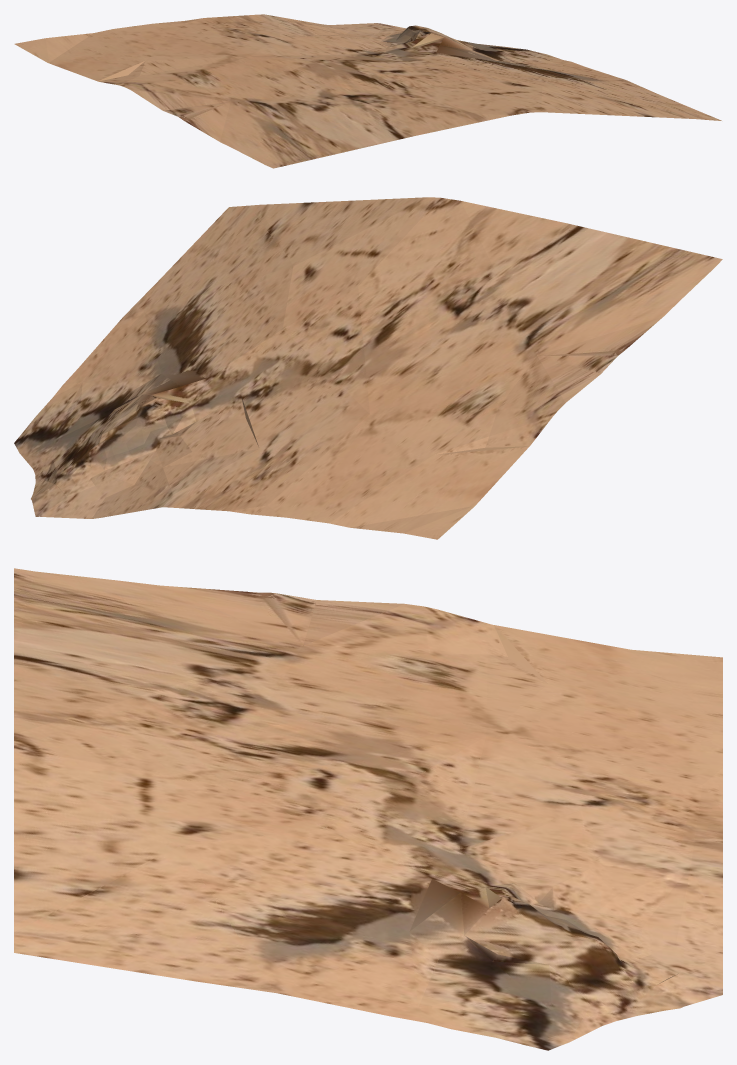
3 renders of one model, top to bottom at view 1: azimuth 30°, elevation 25°; view 2: azimuth 150°, elevation 25°; view 3: azimuth 270°, elevation 25°, orthographic. The views are drawn at different scales.
Bounding box in the file's own units: 2.09 × 0.5945 × 2.09.
Materials: 3 (3 with a texture image).
